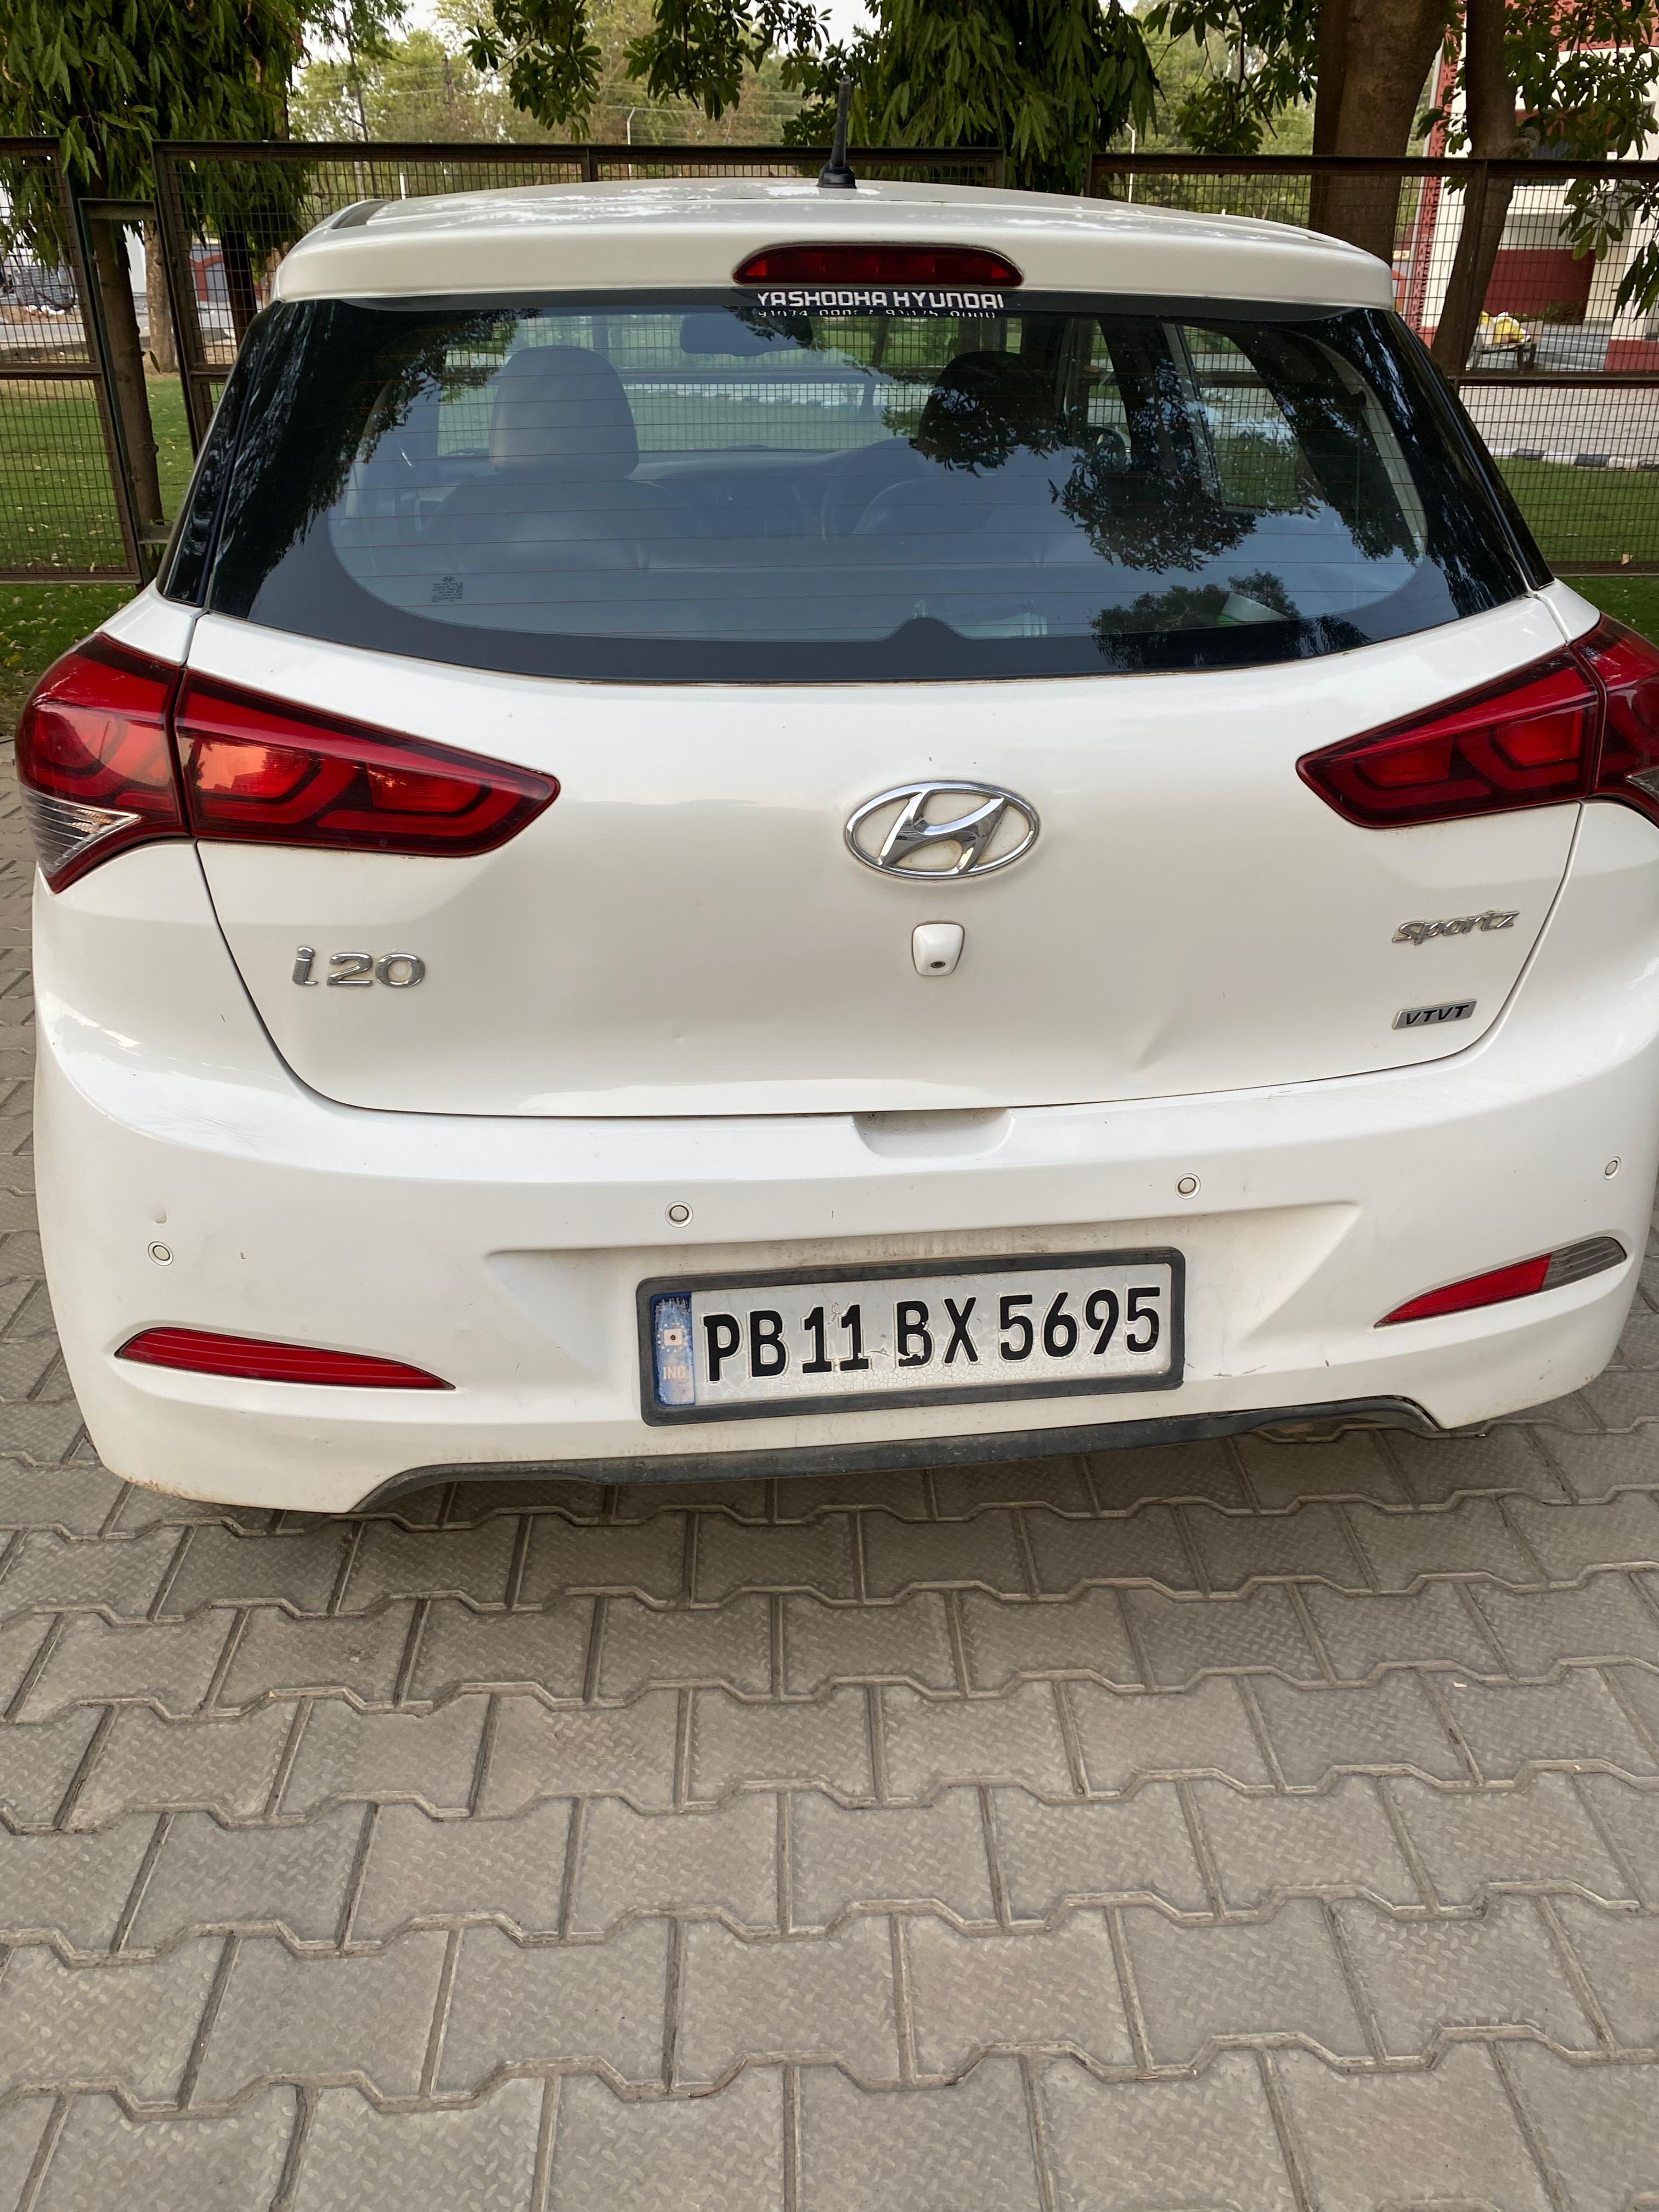license plate: (639, 1250, 1183, 1423)
